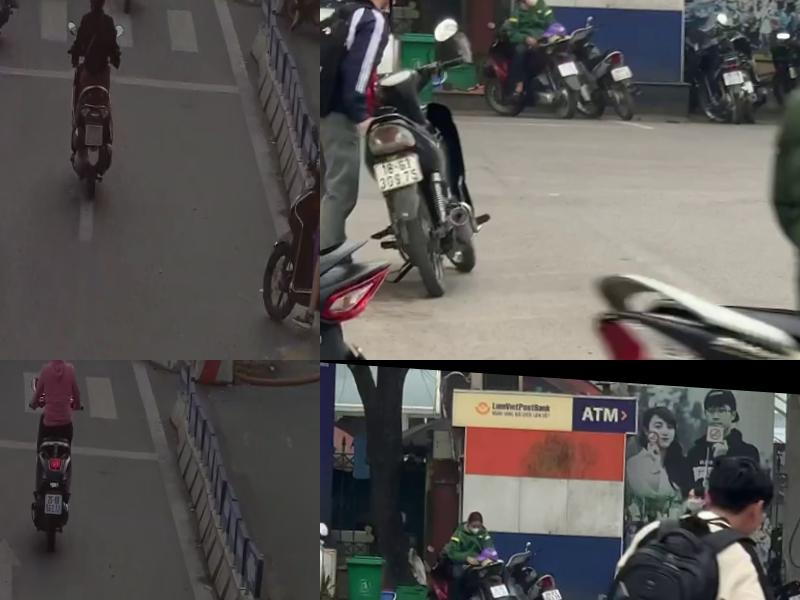license_plate: (375, 152, 426, 191), (719, 61, 745, 84), (611, 55, 634, 79), (557, 57, 581, 77), (48, 486, 68, 510), (544, 581, 566, 600), (88, 120, 107, 141), (491, 577, 512, 596), (789, 583, 800, 600)
motorcyclist: (585, 0, 800, 360), (266, 74, 320, 353), (21, 360, 92, 547), (67, 0, 125, 195)
